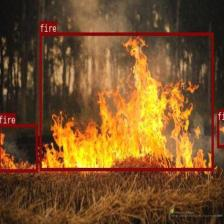fire: (39, 32, 213, 170), (0, 123, 37, 172), (216, 109, 224, 147)
